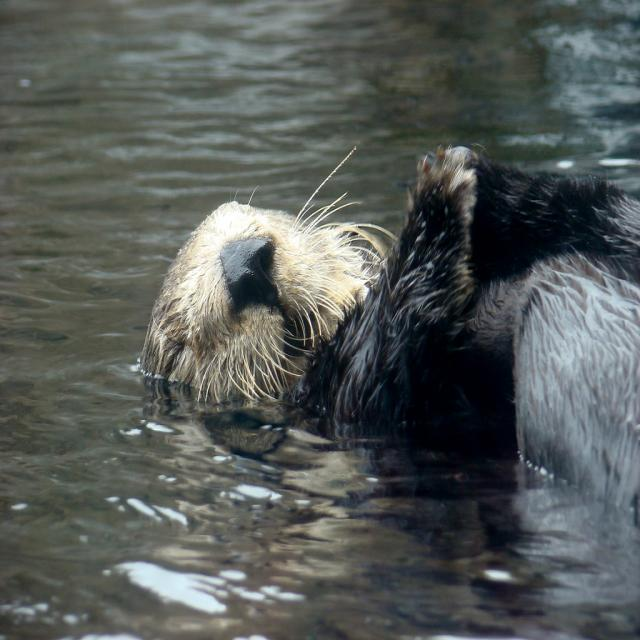otter: (143, 149, 640, 484)
